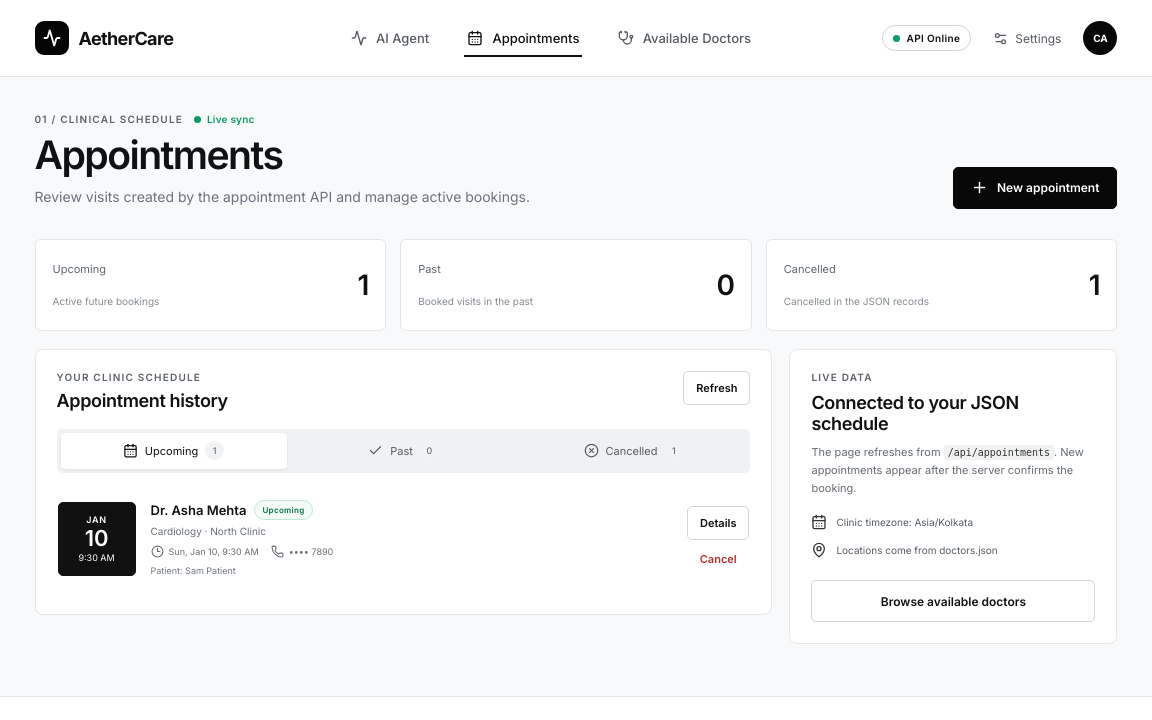
Test: AetherCare client screens › switches appointment status tabs and shows matching records
The image size is (1152, 720).
Expected: the heading "Dr. Asha Mehta" is shown, left=150, top=502, right=246, bottom=518
Expected: the text "Patient: Sam Patient" is shown, left=150, top=565, right=236, bottom=576
Click the tab "Cancelled 1". click: click(634, 451)
box: left=520, top=433, right=746, bottom=469
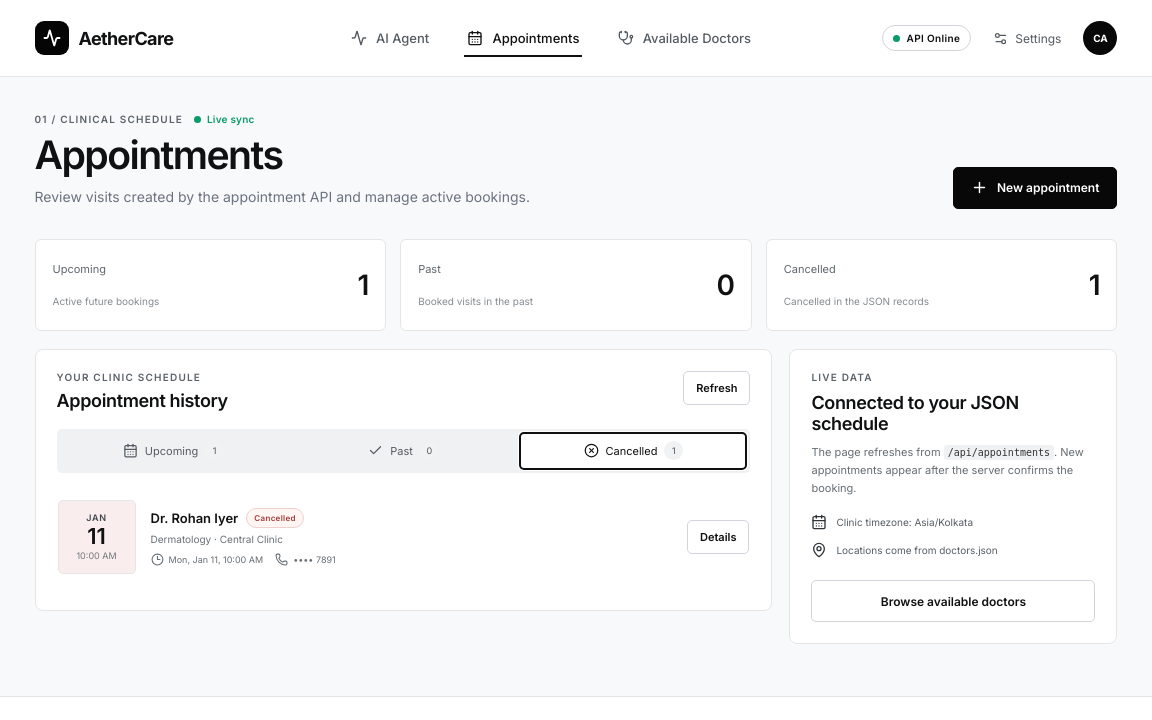
Expected: the heading "Dr. Rohan Iyer" is shown, left=150, top=510, right=238, bottom=526
Expected: the text "Patient: Sam Patient" is gone
